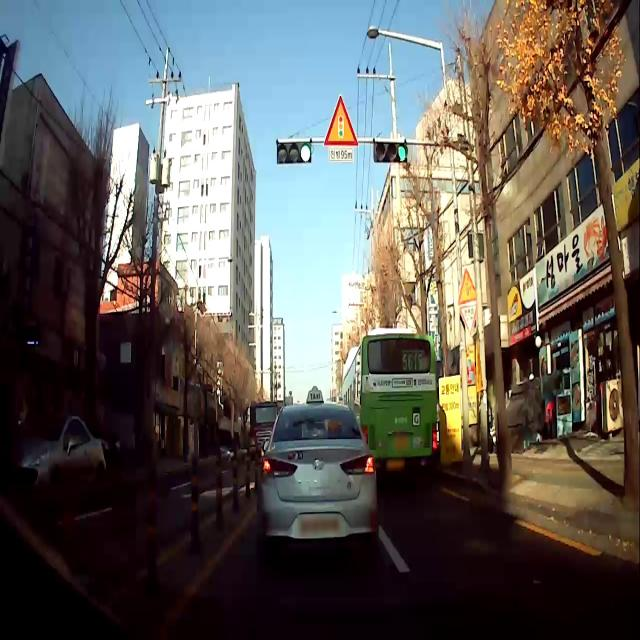Green Light: (299, 142, 311, 163), (397, 142, 408, 162)
